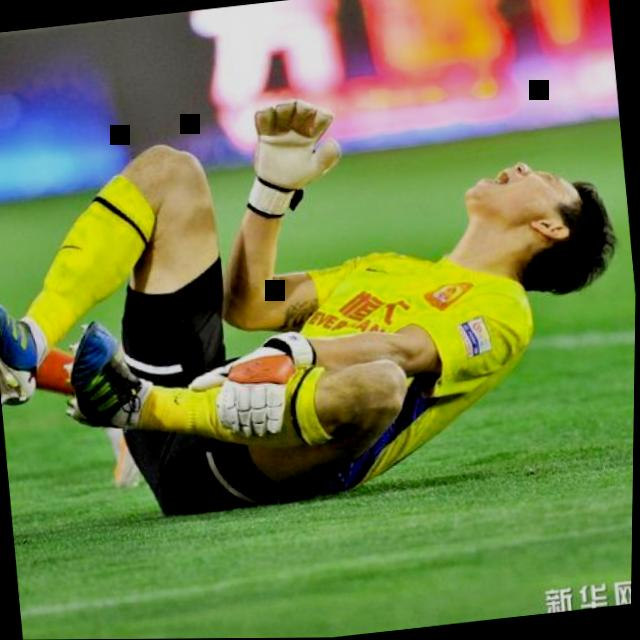Fall-Detected: (0, 38, 640, 527)
